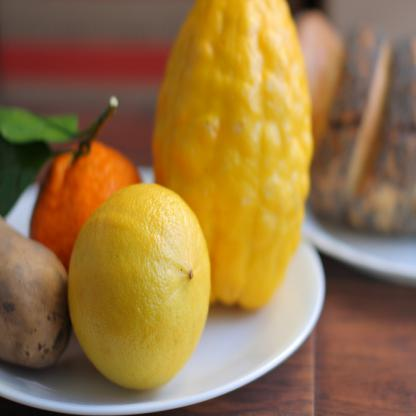lemon: (67, 182, 212, 391)
